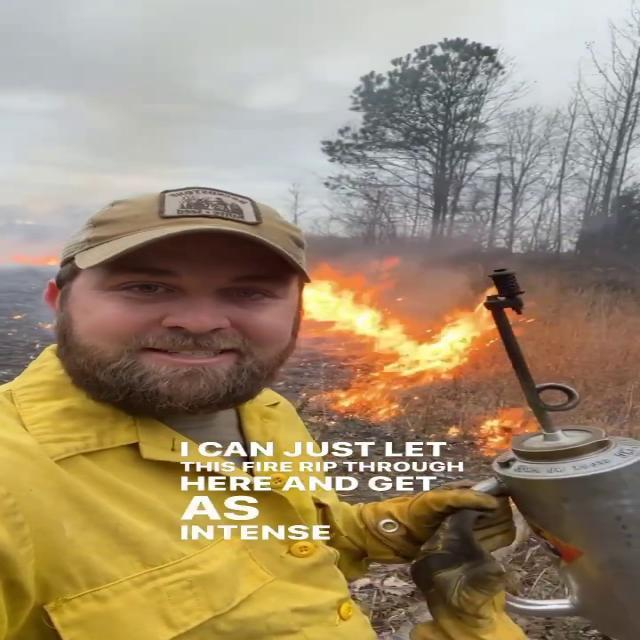Fire: (288, 259, 526, 419), (454, 408, 542, 452)
